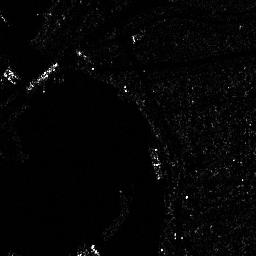ship: (26, 62, 60, 91), (148, 144, 165, 181)
